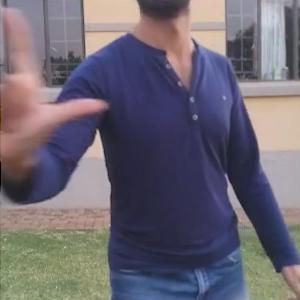land_hand: (0, 0, 107, 176)
